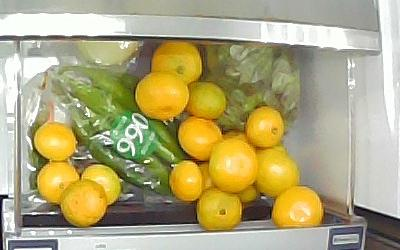tangerine: (136, 72, 189, 121), (210, 140, 258, 192), (62, 178, 108, 227), (258, 148, 301, 200), (271, 186, 324, 228), (151, 41, 201, 82), (179, 116, 224, 161), (198, 190, 242, 232), (36, 162, 81, 203), (34, 122, 78, 161), (247, 105, 284, 149), (83, 164, 121, 205), (188, 82, 228, 120), (170, 160, 203, 201), (224, 128, 255, 152), (200, 162, 217, 198), (234, 185, 257, 202)
